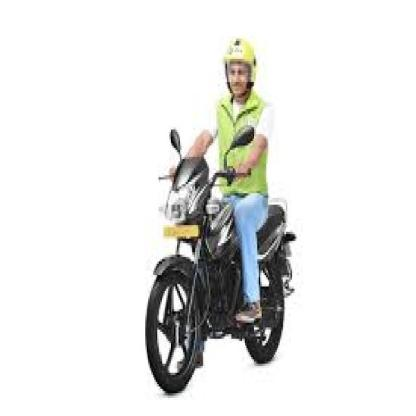bike: (143, 158, 297, 394)
